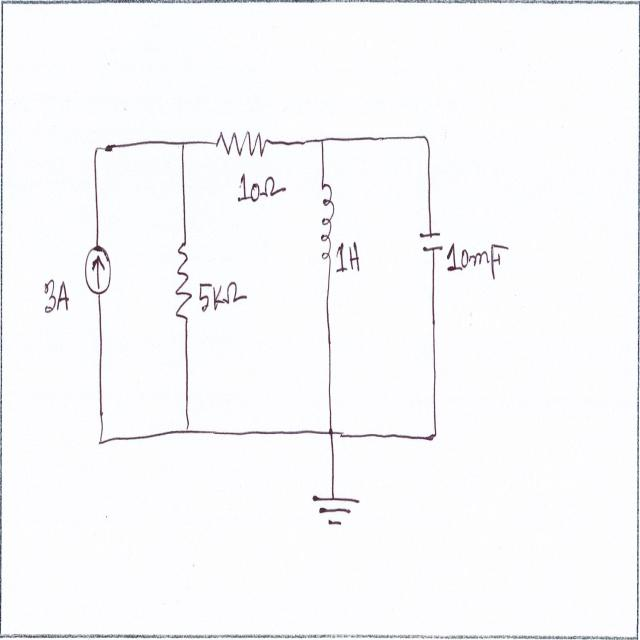capacitor: (418, 219, 447, 265)
current_source: (83, 238, 116, 312)
ground: (308, 483, 362, 535)
inductor: (317, 169, 337, 273)
resistor: (172, 226, 194, 333), (213, 123, 270, 163)
